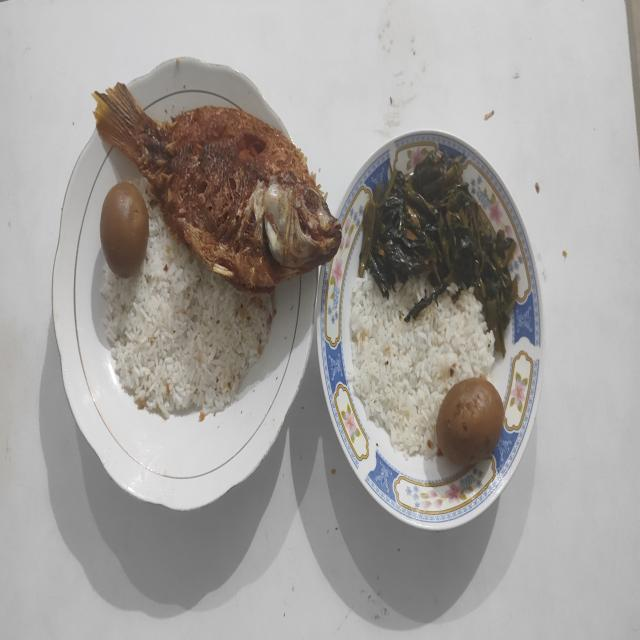ikan_mujair: (94, 83, 340, 291)
nasi_putih: (102, 192, 274, 420), (350, 275, 494, 459)
tumis_kangkung: (360, 150, 518, 357)
